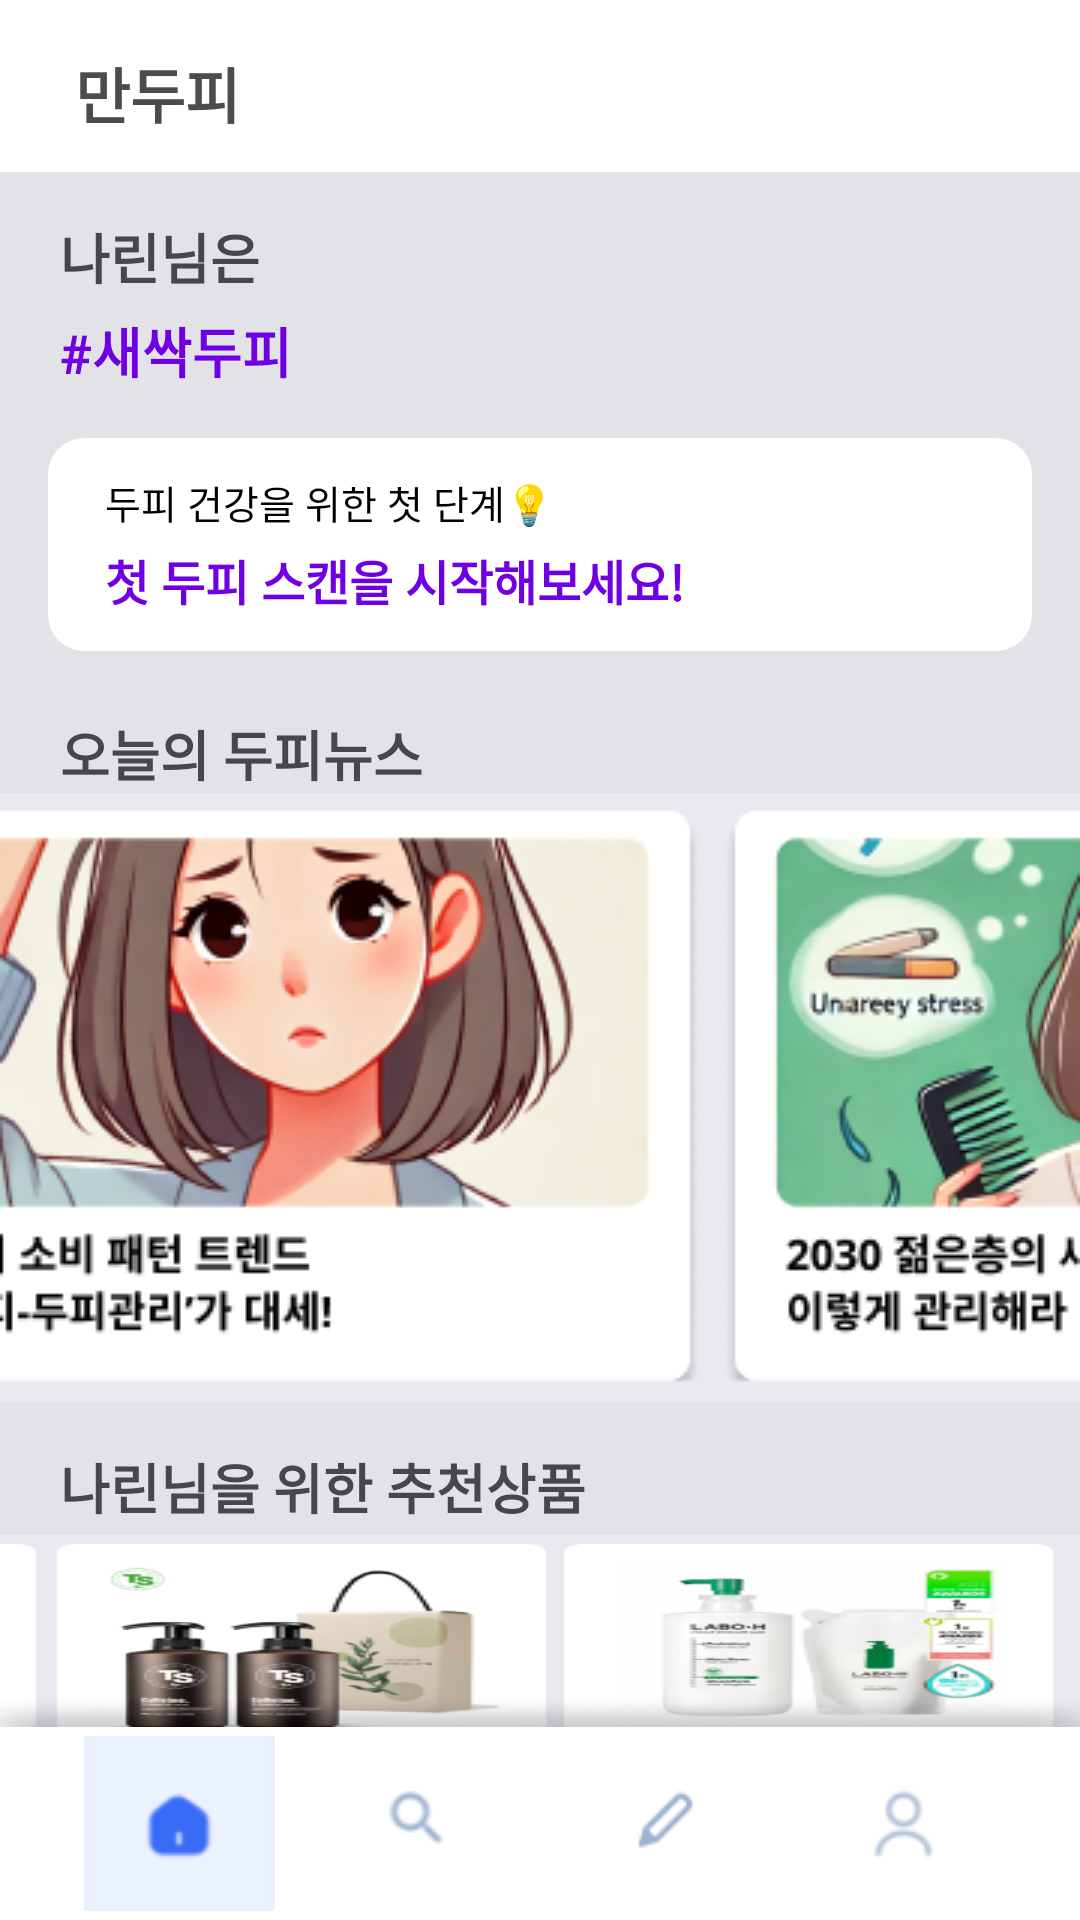

Icons on this 1080px x 1920px Android screen, each with the point to tap as point (x, y):
sel home: point (179, 1825)
